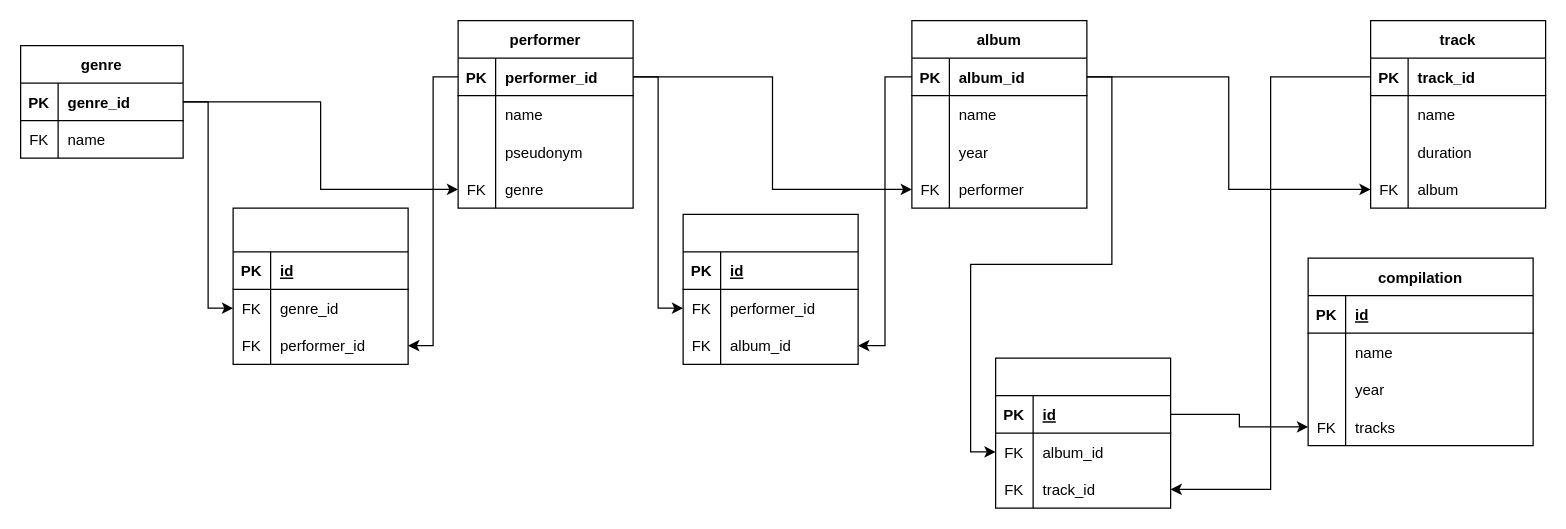
Image size: 1566x529. Some labels were removed from this diagram. Here are the shapes that lost their labels. From the top down, the box of each, then its label:
(232, 207, 408, 364): genre_performer
(682, 213, 858, 364): performer_album
(994, 357, 1171, 508): album_track
